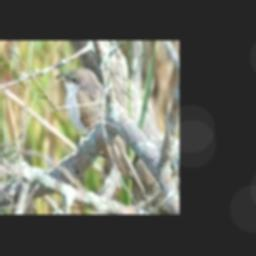Cuckoo: (54, 68, 140, 183)
